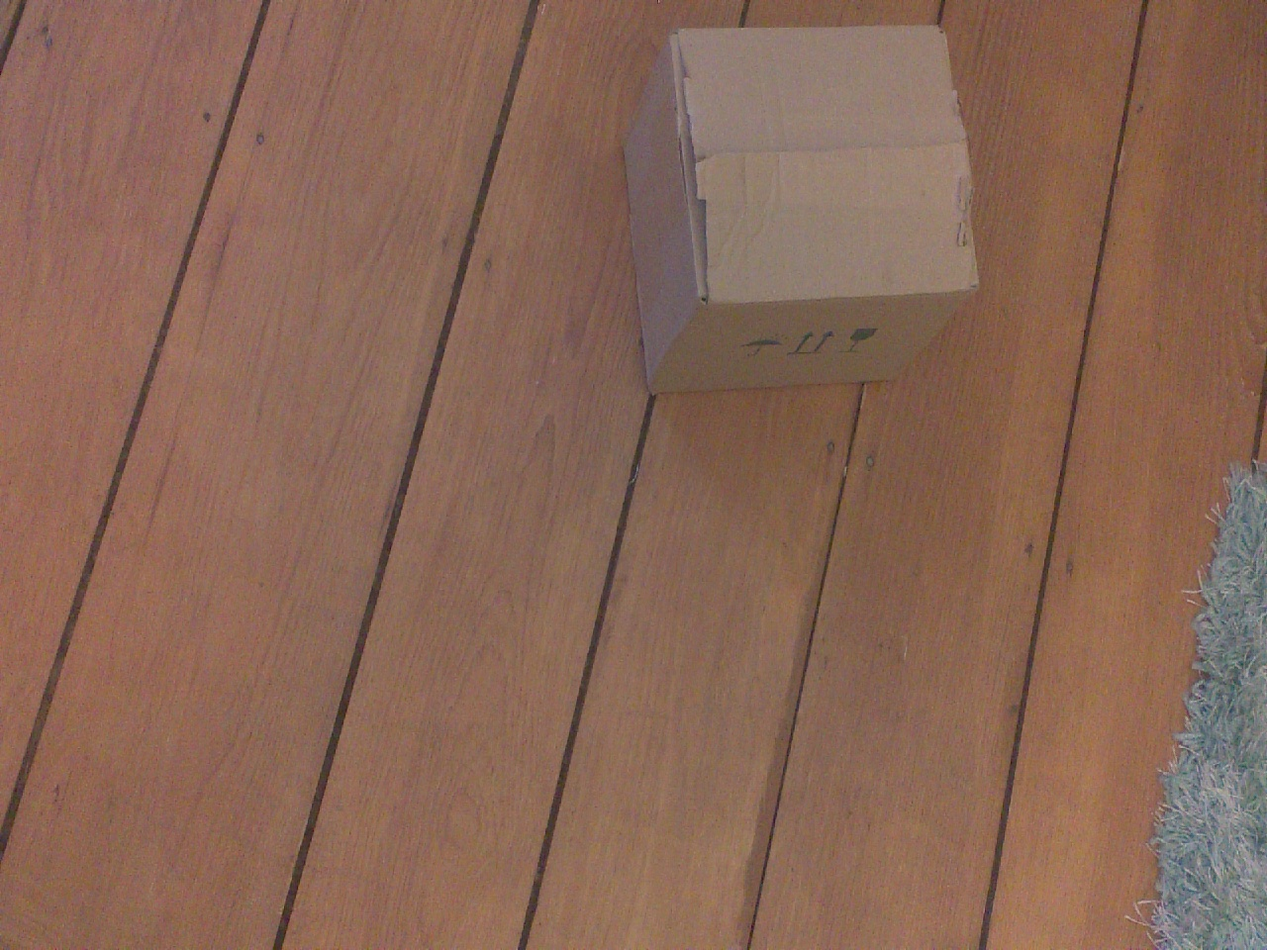good-parcel: (624, 16, 986, 410)
